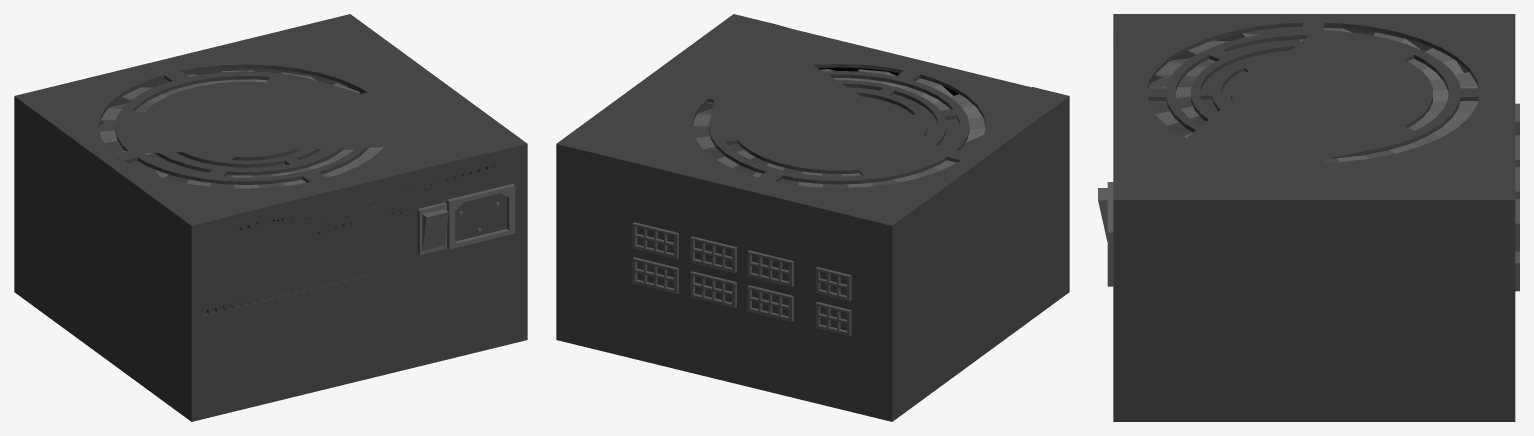
The model's file is PC_Power.fbx.
3 renders of one model, left to right at view 1: azimuth 30°, elevation 25°; view 2: azimuth 150°, elevation 25°; view 3: azimuth 270°, elevation 25°, orthographic. The views are drawn at different scales.
Parts seen in each view (by area): view 1: frame; view 2: frame; view 3: frame.
Boxes of the visible parts, x1,y1,x2,y2 form: frame: [14, 14, 527, 421]; frame: [556, 14, 1069, 421]; frame: [1098, 14, 1519, 421].
Bounding box in the file's own units: 321 × 179 × 308.
